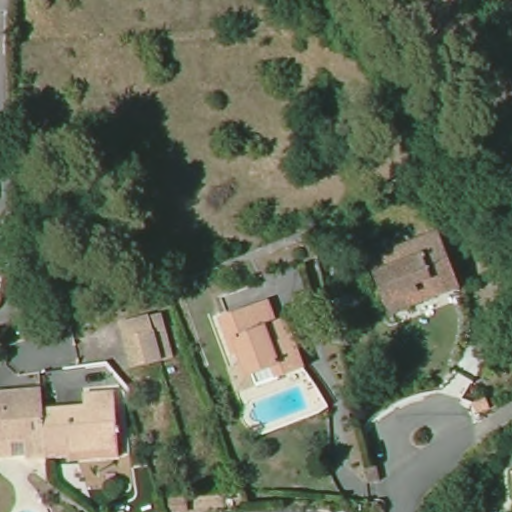pool: (248, 387, 314, 429)
